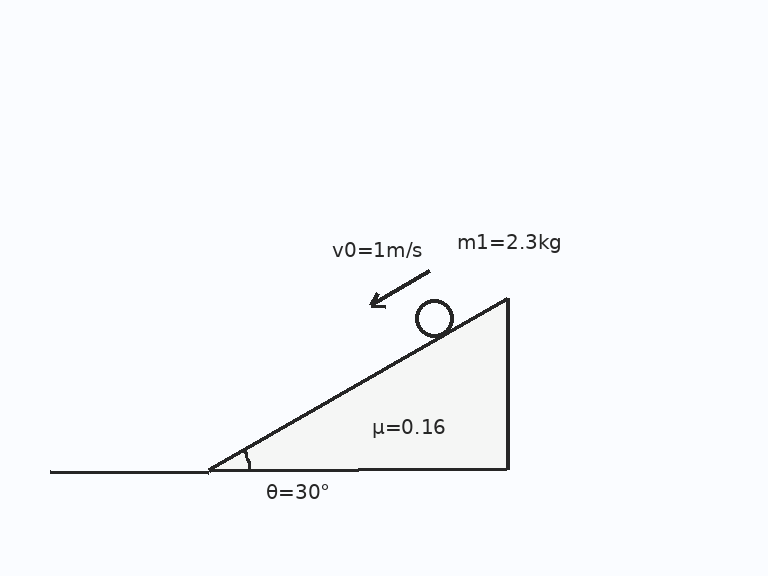ball: (413, 297, 455, 339)
ramp: (207, 296, 509, 472)
